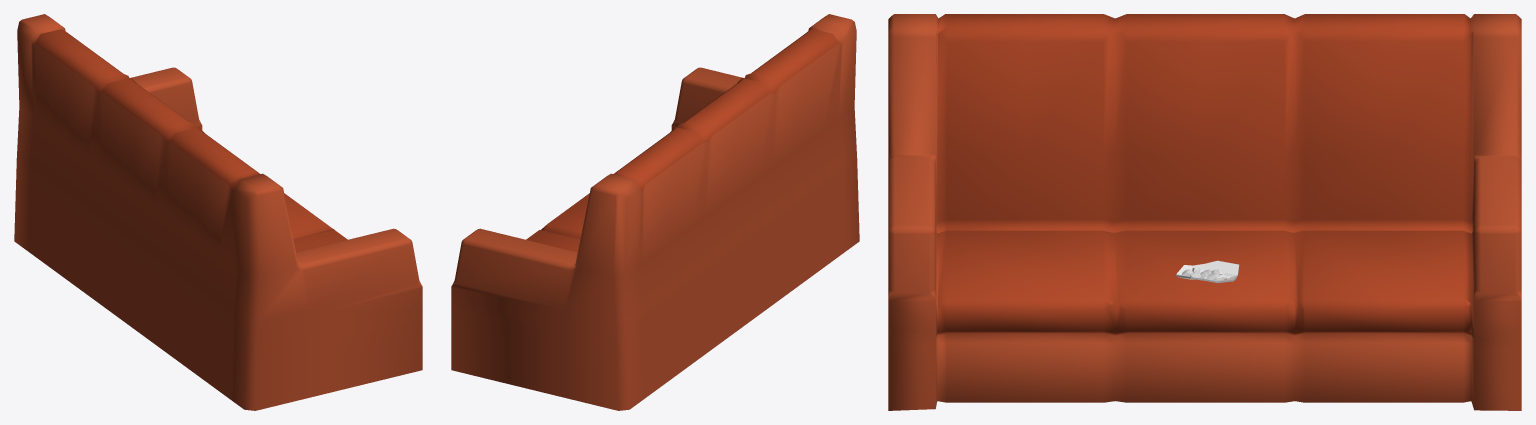
File: Couch.fbx
3 views of the same model, side by side, from view 1: azimuth 30°, elevation 25°; view 2: azimuth 150°, elevation 25°; view 3: azimuth 270°, elevation 25° (orthographic). The views are drawn at different scales.
Parts seen in each view (by area): view 1: Couch; view 2: Couch; view 3: Couch, CouchDamage.
Boxes of the visible parts, box(x1,y1,x2,y2) form: Couch: box(14, 14, 422, 410); Couch: box(451, 14, 859, 410); Couch: box(888, 14, 1521, 410); CouchDamage: box(1176, 260, 1239, 283).
Bounding box in the file's own units: 206 × 246 × 486.
